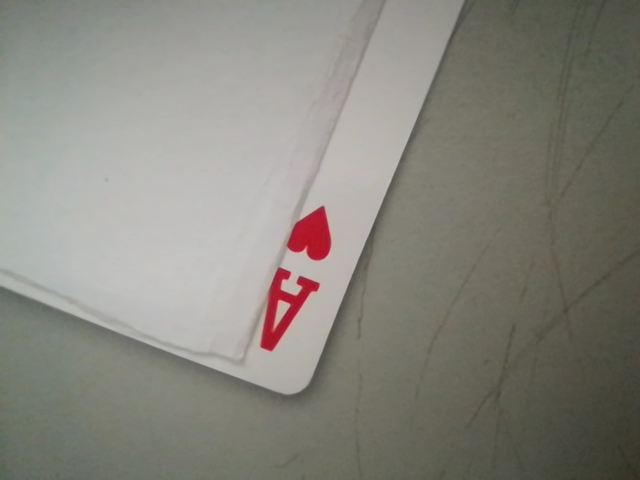hx a: (249, 201, 343, 366)
